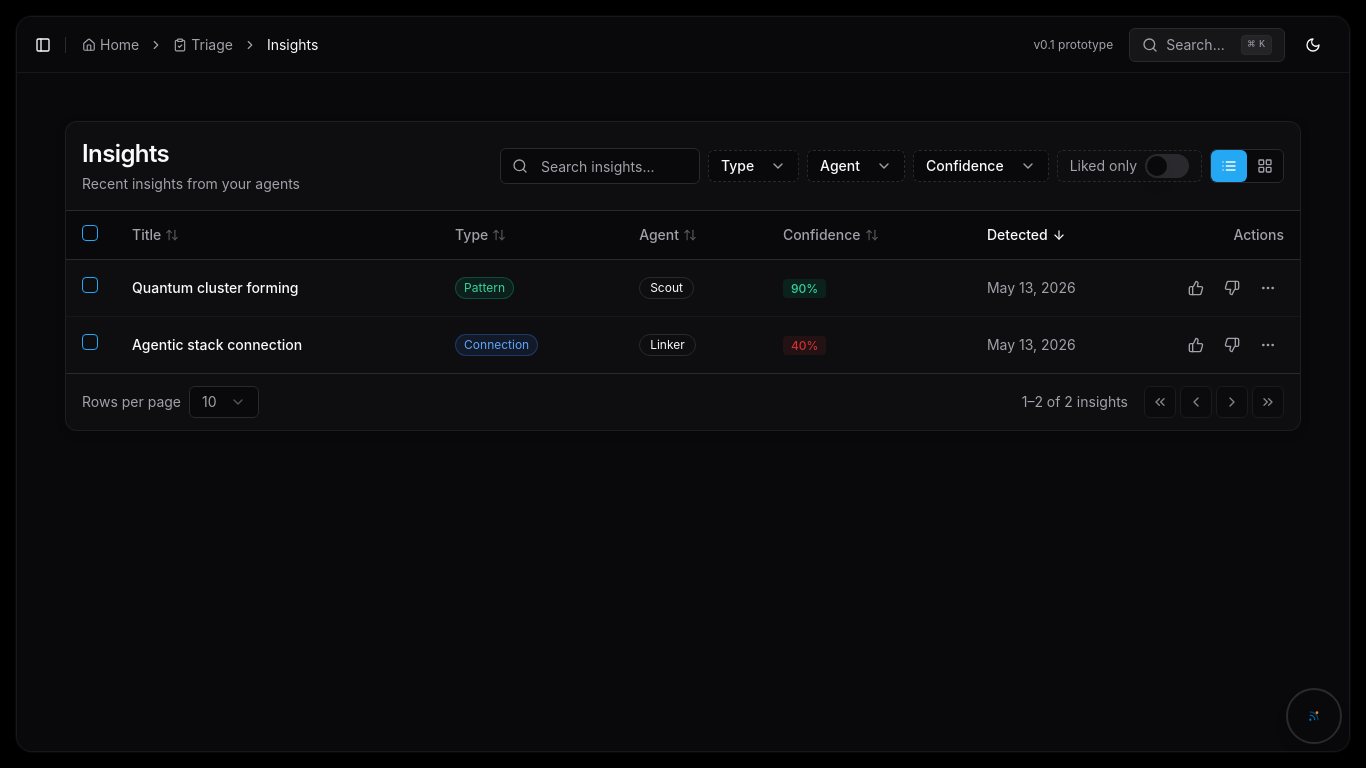
Test: InsightsPage — library-table conventions › shows the shared floating toolbar when rows are selected, with the Dismiss CTA
What coordinates should you click on to do the following:
click the checkbox with test id "insight-select-in-1"
I would click on:
 (90, 285)
Its box is left=82, top=277, right=98, bottom=293.
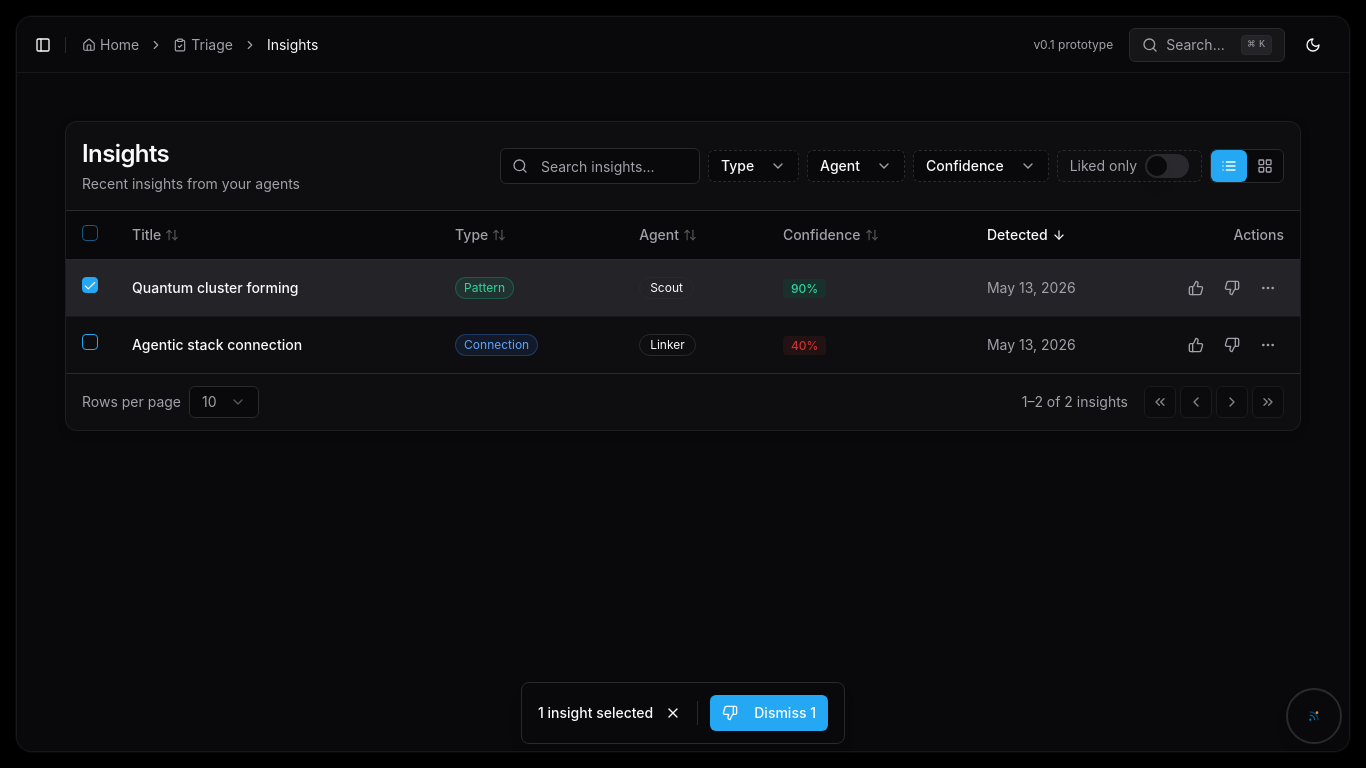
Expected: the text "1 insight selected" is shown, left=538, top=703, right=653, bottom=723
Expected: the button with test id "bulk-action-bar-dismiss" is shown, left=710, top=695, right=828, bottom=731
Expected: the button named "Clear selection" is shown, left=661, top=701, right=685, bottom=725
